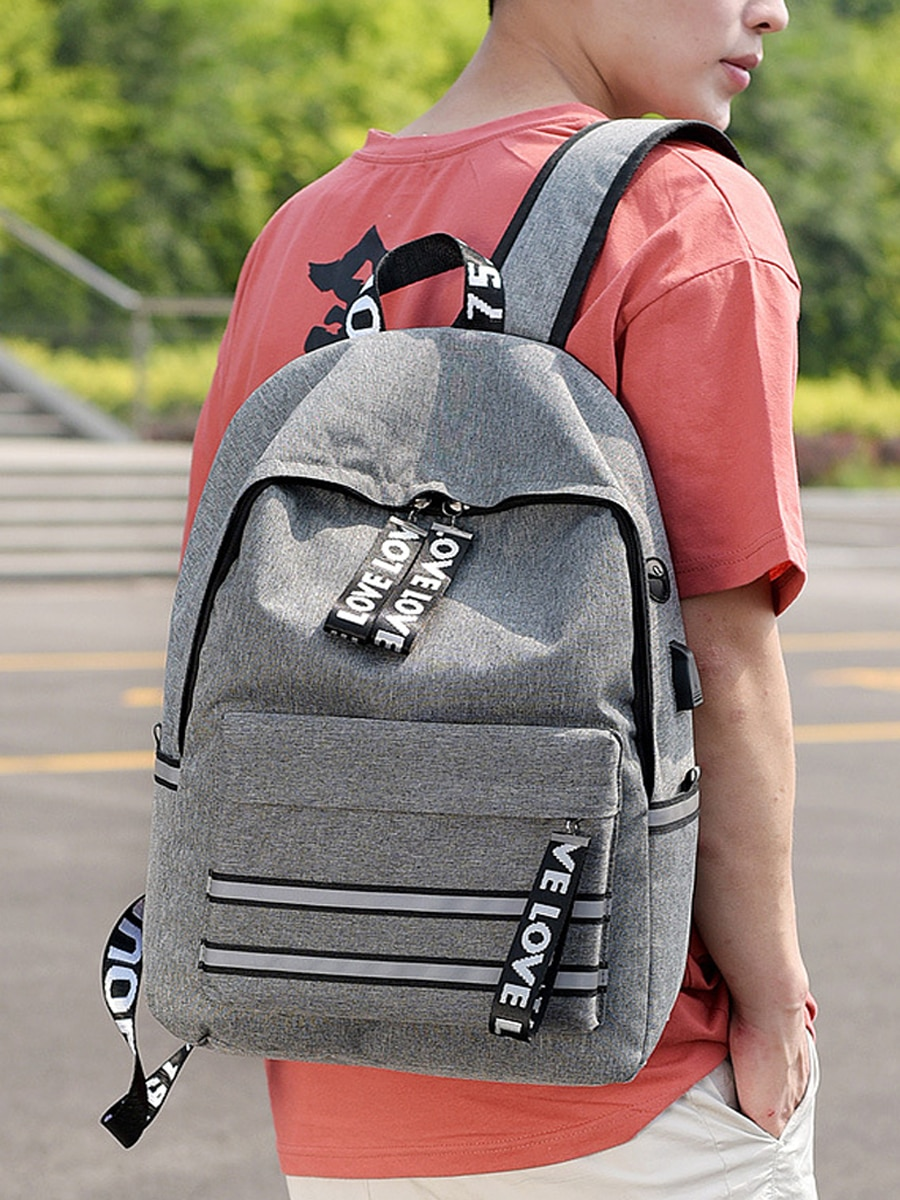Men's Backpacks: (150, 110, 759, 1094)
Tops|T-shirts & Tanks: (174, 105, 803, 599)
